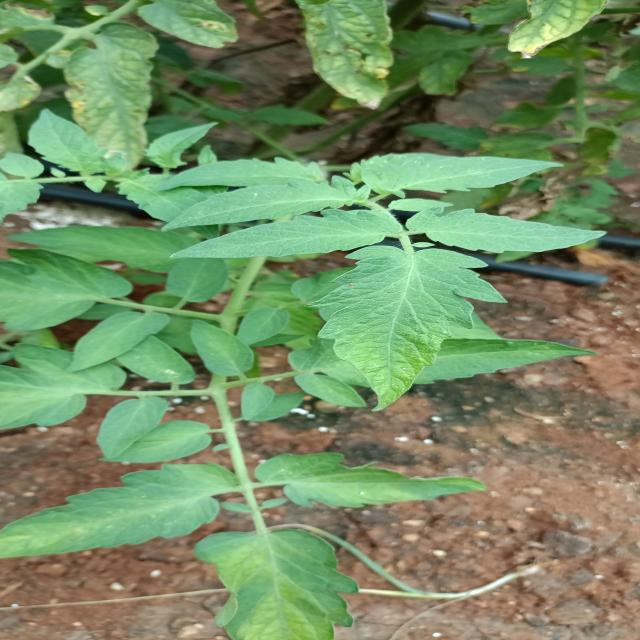Healthy Leaf: (303, 248, 495, 397), (7, 462, 233, 568), (263, 438, 492, 519), (210, 536, 387, 640), (165, 174, 373, 230), (164, 219, 400, 260), (358, 153, 566, 196), (415, 211, 610, 253), (66, 312, 168, 372), (155, 156, 322, 191), (84, 397, 170, 458), (185, 322, 257, 376), (233, 378, 270, 421)
